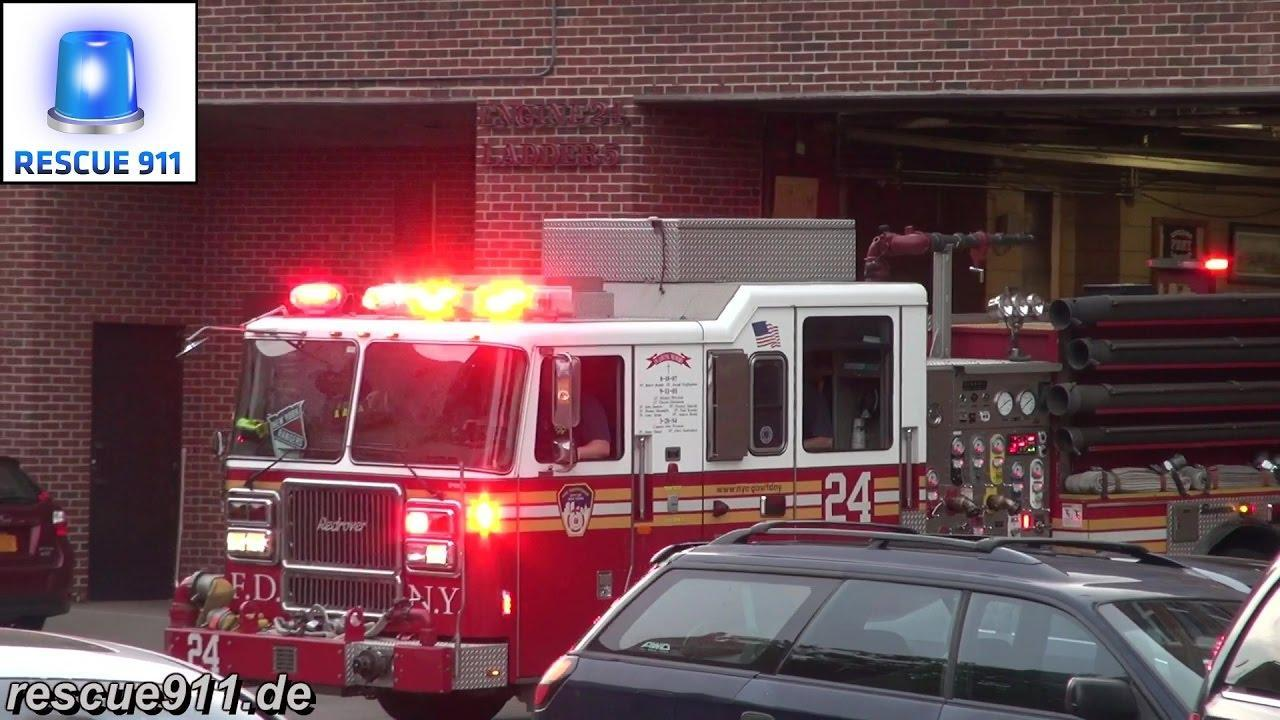Fire-engine: (193, 217, 1280, 720), (287, 279, 556, 322), (10, 148, 186, 180)
